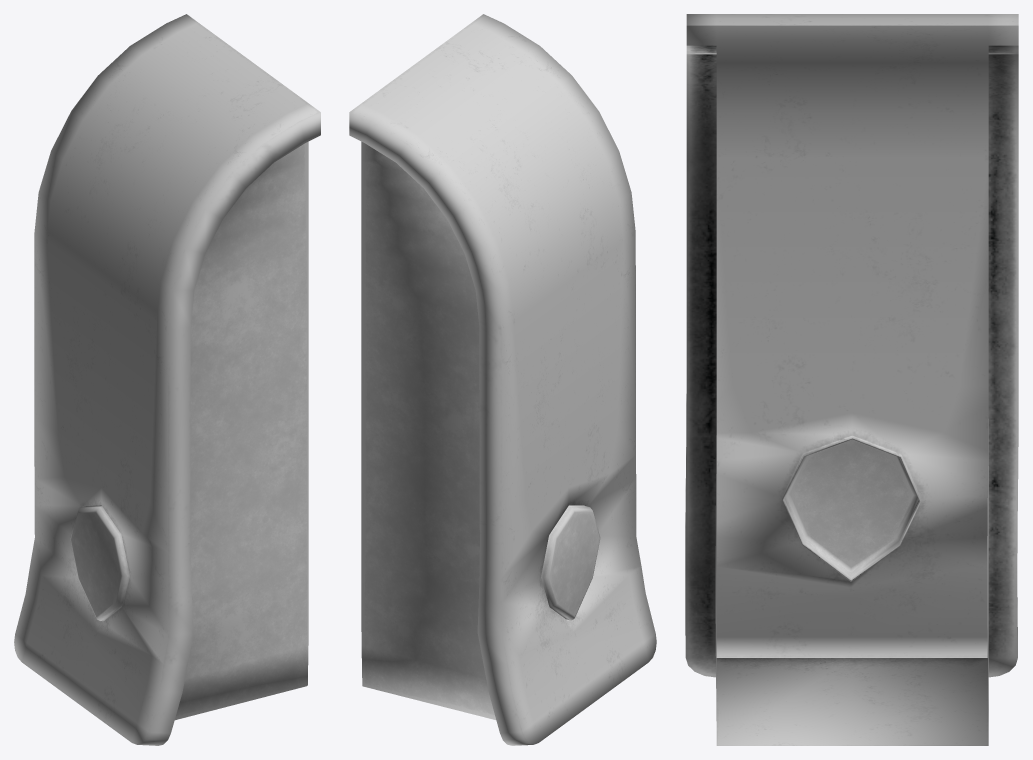
Rendered from Bathroom_HandDispenser.fbx.
3 renders of one model, left to right at view 1: azimuth 30°, elevation 25°; view 2: azimuth 150°, elevation 25°; view 3: azimuth 270°, elevation 25°, orthographic. The views are drawn at different scales.
Parts seen in each view (by area): view 1: Soap Dispenser_low; view 2: Soap Dispenser_low; view 3: Soap Dispenser_low.
Boxes of the visible parts, x1,y1,x2,y2 form: Soap Dispenser_low: (14,14,320,745); Soap Dispenser_low: (349,14,656,745); Soap Dispenser_low: (685,14,1018,745).
Bounding box in the file's own units: 10.32 × 33.56 × 13.61.
Materials: 1 (1 with a texture image).
